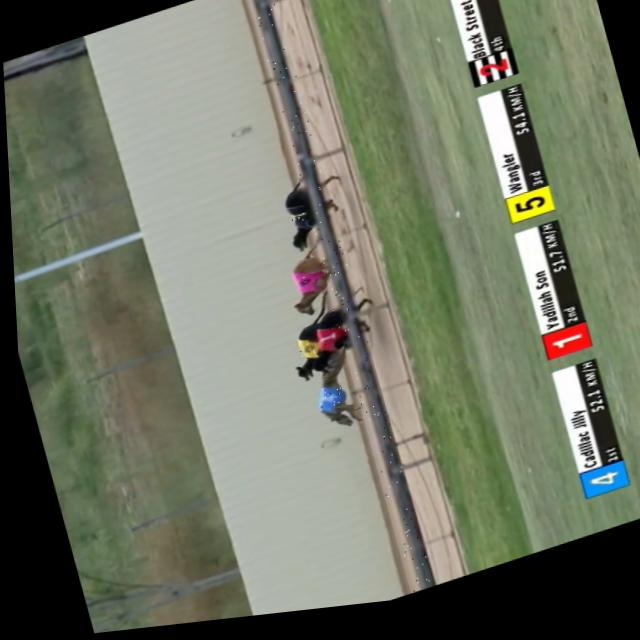dog_eight: (291, 275, 317, 296)
dog_five: (294, 343, 319, 363)
dog_four: (311, 390, 340, 416)
dog_one: (312, 331, 339, 353)
dog_seven: (284, 211, 308, 229)
rail: (250, 0, 427, 596)
